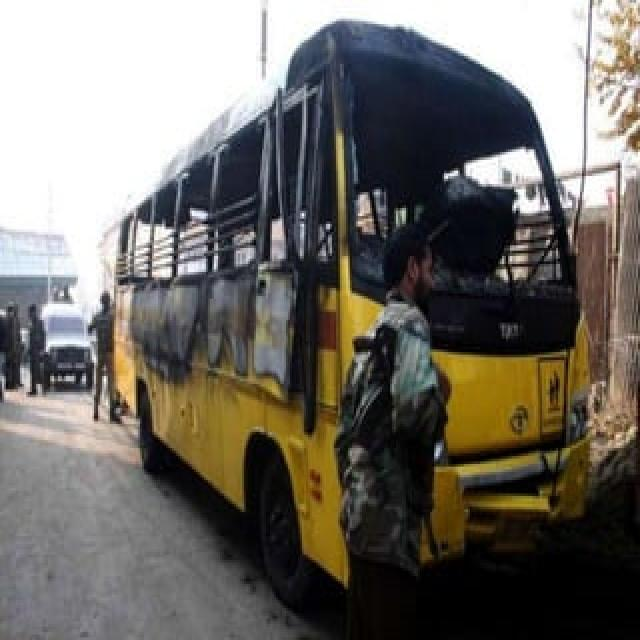accident: (111, 15, 590, 602)
car: (44, 300, 95, 393)
